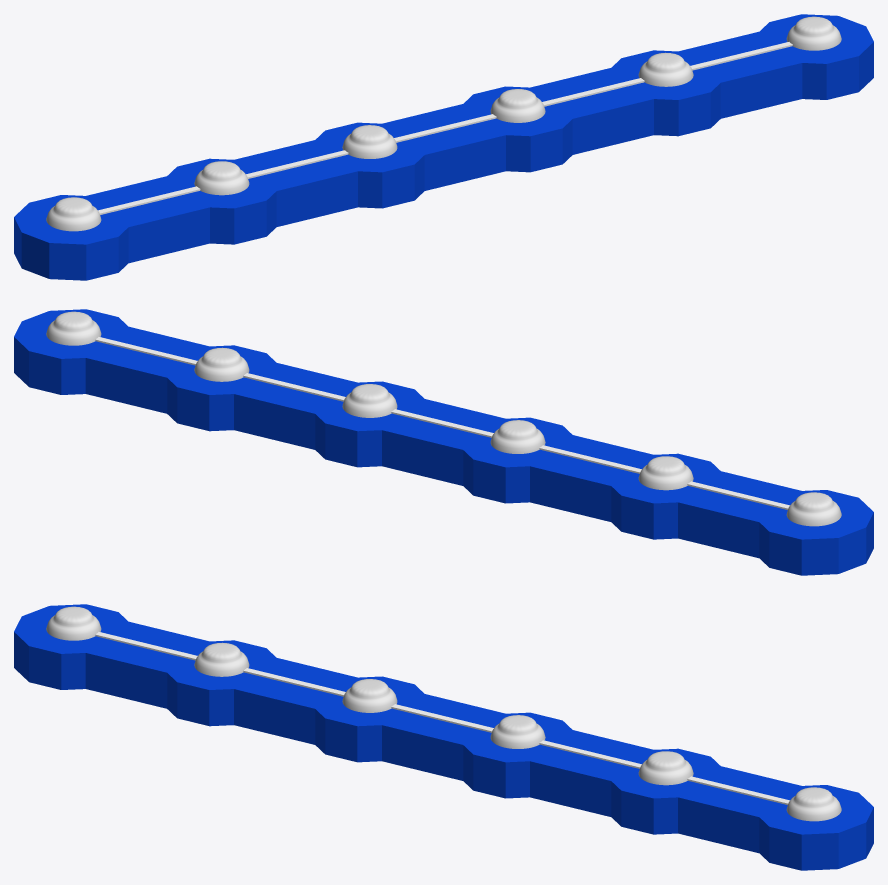
The model's file is 6BarConnector.fbx.
3 renders of one model, top to bottom at view 1: azimuth 30°, elevation 25°; view 2: azimuth 150°, elevation 25°; view 3: azimuth 330°, elevation 25°, orthographic.
Parts seen in each view (by area): view 1: pCube1, pCylinder11, pCylinder1, pCylinder2, pCylinder5, pCylinder8, pCylinder9, pCylinder12, pCylinder10, pCylinder4, pCylinder3, pCylinder6 (+6 smaller); view 2: pCube1, pCylinder11, pCylinder1, pCylinder2, pCylinder9, pCylinder5, pCylinder8, pCylinder12, pCylinder10, pCylinder4, pCylinder3, pCylinder6 (+6 smaller); view 3: pCube1, pCylinder1, pCylinder2, pCylinder11, pCylinder5, pCylinder8, pCylinder9, pCylinder4, pCylinder3, pCylinder12, pCylinder10, pCylinder6 (+6 smaller).
Part boxes in pixels (x1,y1,x2,y2): pCube1: (53, 24, 835, 263); pCylinder11: (14, 195, 128, 280); pCylinder1: (754, 14, 873, 99); pCylinder2: (606, 50, 724, 136); pCylinder5: (458, 86, 572, 172); pCylinder8: (314, 122, 424, 208); pCylinder9: (165, 158, 276, 244); pCylinder12: (46, 197, 101, 231); pCylinder10: (194, 161, 249, 195); pCylinder4: (786, 16, 841, 50); pCylinder3: (638, 52, 693, 86); pCylinder6: (490, 89, 545, 122); pCube1: (55, 319, 834, 558); pCylinder11: (755, 490, 873, 575); pCylinder1: (14, 309, 133, 394); pCylinder2: (162, 345, 281, 431); pCylinder9: (607, 453, 723, 539); pCylinder5: (310, 381, 423, 467); pCylinder8: (460, 417, 577, 503); pCylinder12: (786, 492, 841, 526); pCylinder10: (638, 456, 693, 490); pCylinder4: (46, 311, 101, 345); pCylinder3: (194, 347, 249, 381); pCylinder6: (342, 384, 397, 417); pCube1: (52, 613, 834, 853); pCylinder1: (755, 785, 873, 870); pCylinder2: (606, 748, 725, 834); pCylinder11: (14, 604, 132, 689); pCylinder5: (461, 712, 575, 798); pCylinder8: (315, 676, 427, 762); pCylinder9: (167, 640, 280, 726); pCylinder4: (786, 787, 841, 821); pCylinder3: (638, 751, 693, 785); pCylinder12: (46, 606, 101, 640); pCylinder10: (194, 642, 249, 676); pCylinder6: (490, 715, 545, 748).
Size of the model in its own units: 11.41 by 0.7857 by 1.34.
